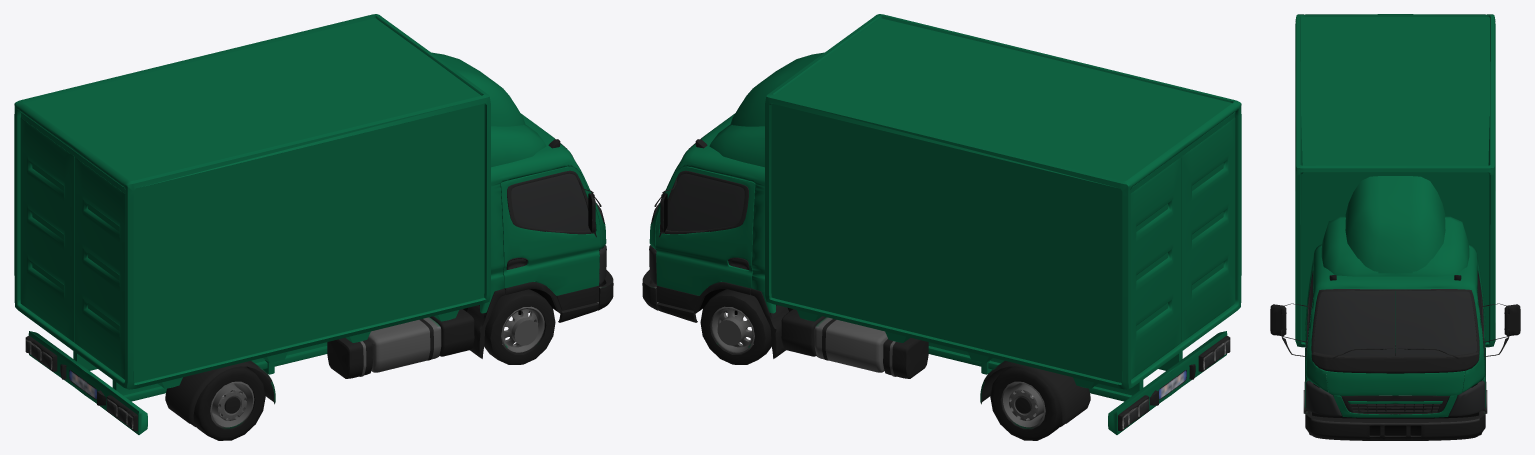
The model's file is xiaohuoche.fbx.
3 views of the same model, side by side, from view 1: azimuth 30°, elevation 25°; view 2: azimuth 150°, elevation 25°; view 3: azimuth 270°, elevation 25° (orthographic). The views are drawn at different scales.
Visible parts, largest first — view 1: xiaohuoche; view 2: xiaohuoche; view 3: xiaohuoche.
Boxes of the visible parts, box(x1,y1,x2,y2) form: xiaohuoche: box(14, 14, 613, 440); xiaohuoche: box(642, 14, 1241, 440); xiaohuoche: box(1270, 14, 1520, 440).
Bounding box in the file's own units: 6.48 × 3.5 × 3.2.
Materials: 2 (2 with a texture image).
